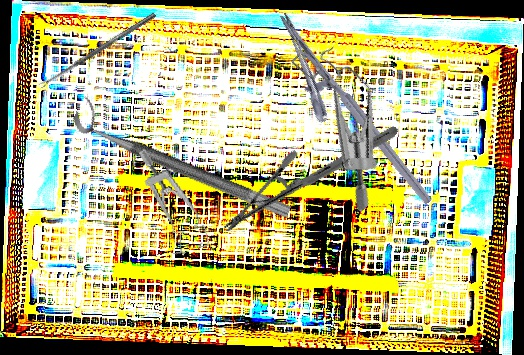Fixation Ring: (69, 95, 300, 220)
Needle Holder: (252, 11, 434, 226), (222, 77, 400, 281)
Speculum: (246, 27, 432, 215), (136, 139, 212, 260)
Surgical Spoon: (38, 11, 157, 89)
